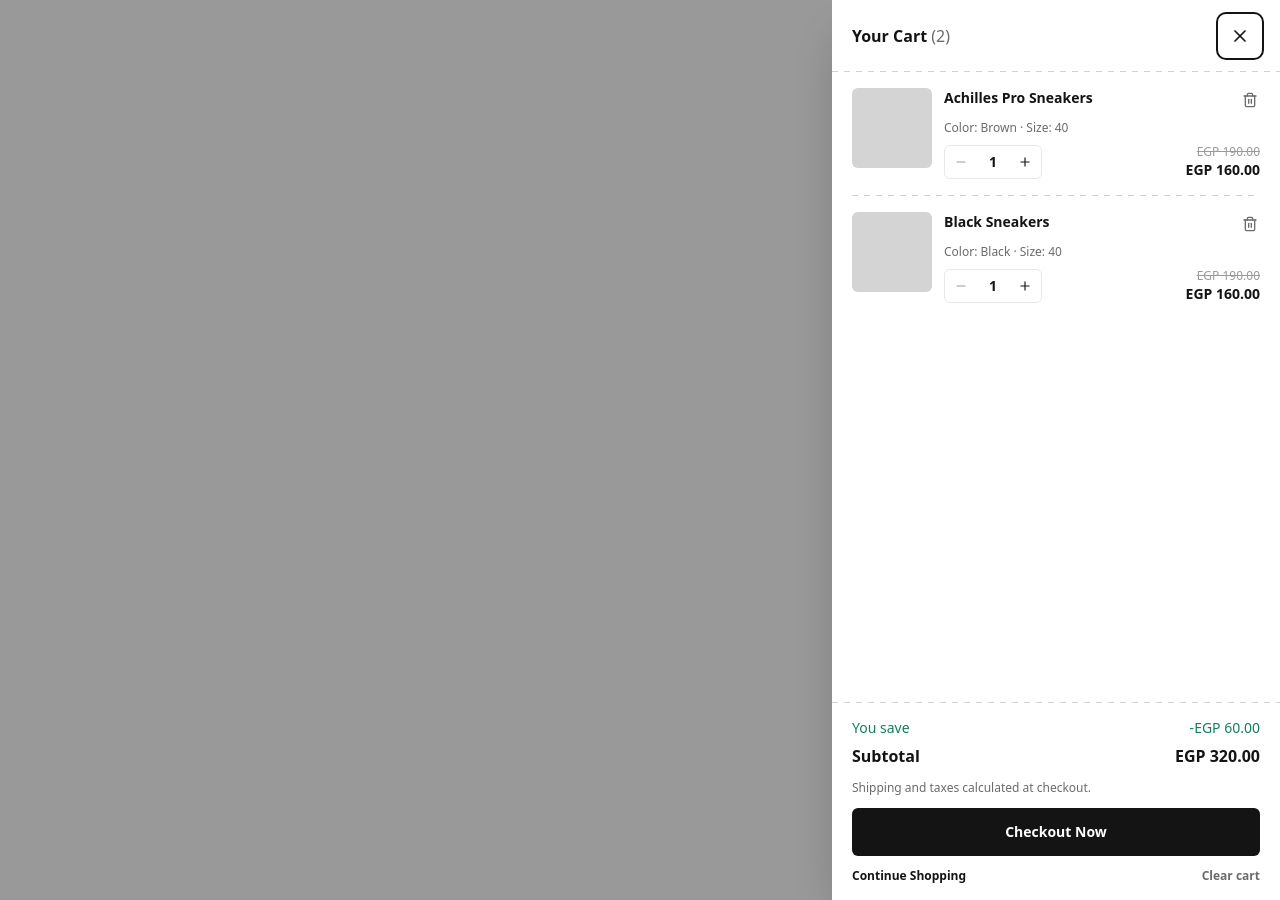
Test: CartDrawer › removes an item and falls back to the empty state
Expected: the number of list items is 2, [852, 72, 1260, 196]; [852, 196, 1260, 320]
Click the button named "Remove Achilles Pro Sneakers". click: [1250, 100]
box: [1234, 84, 1266, 116]
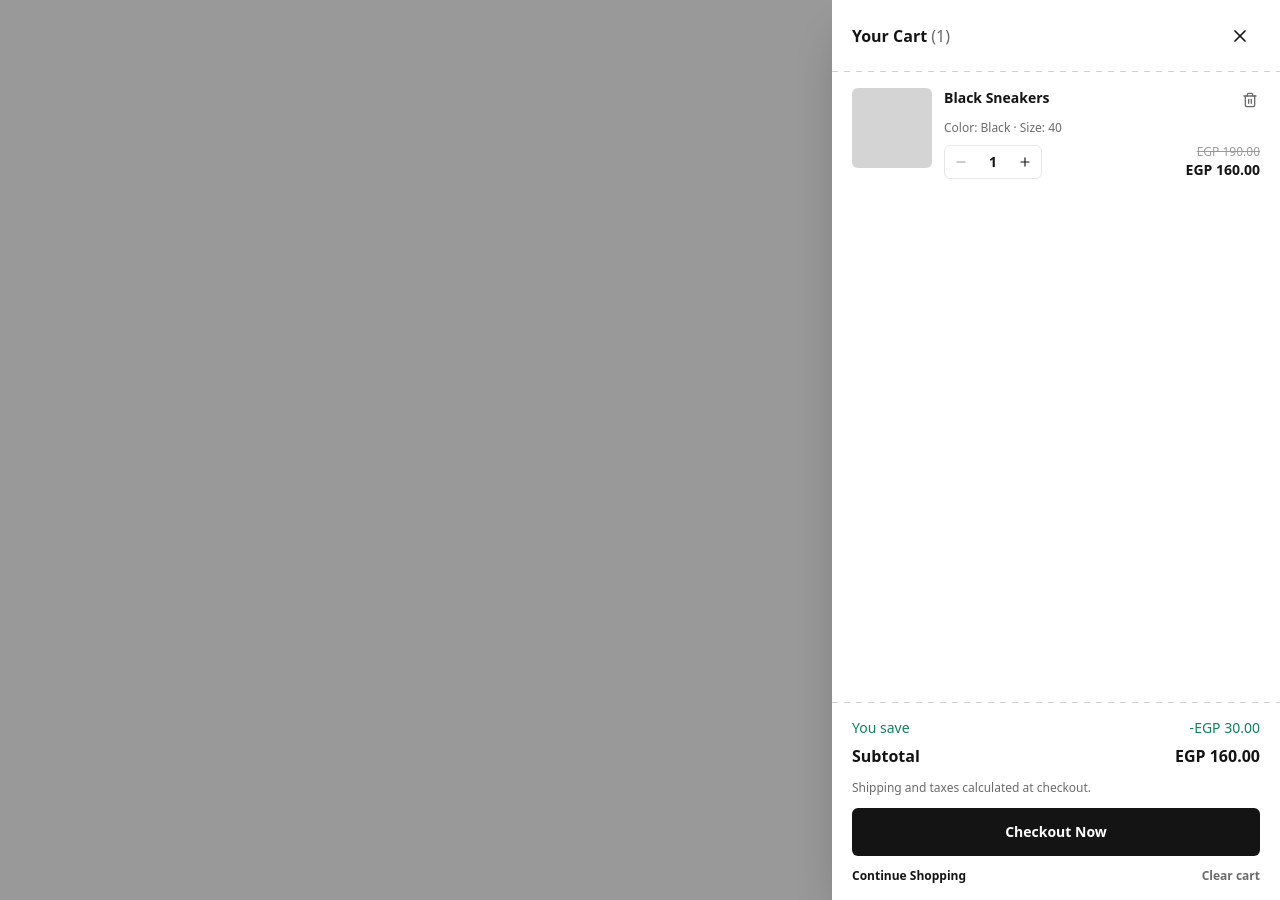
Now the number of list items is 1, box [852, 72, 1260, 196]
Click the button named "Remove Black Sneakers". click: [1250, 100]
box: [1234, 84, 1266, 116]
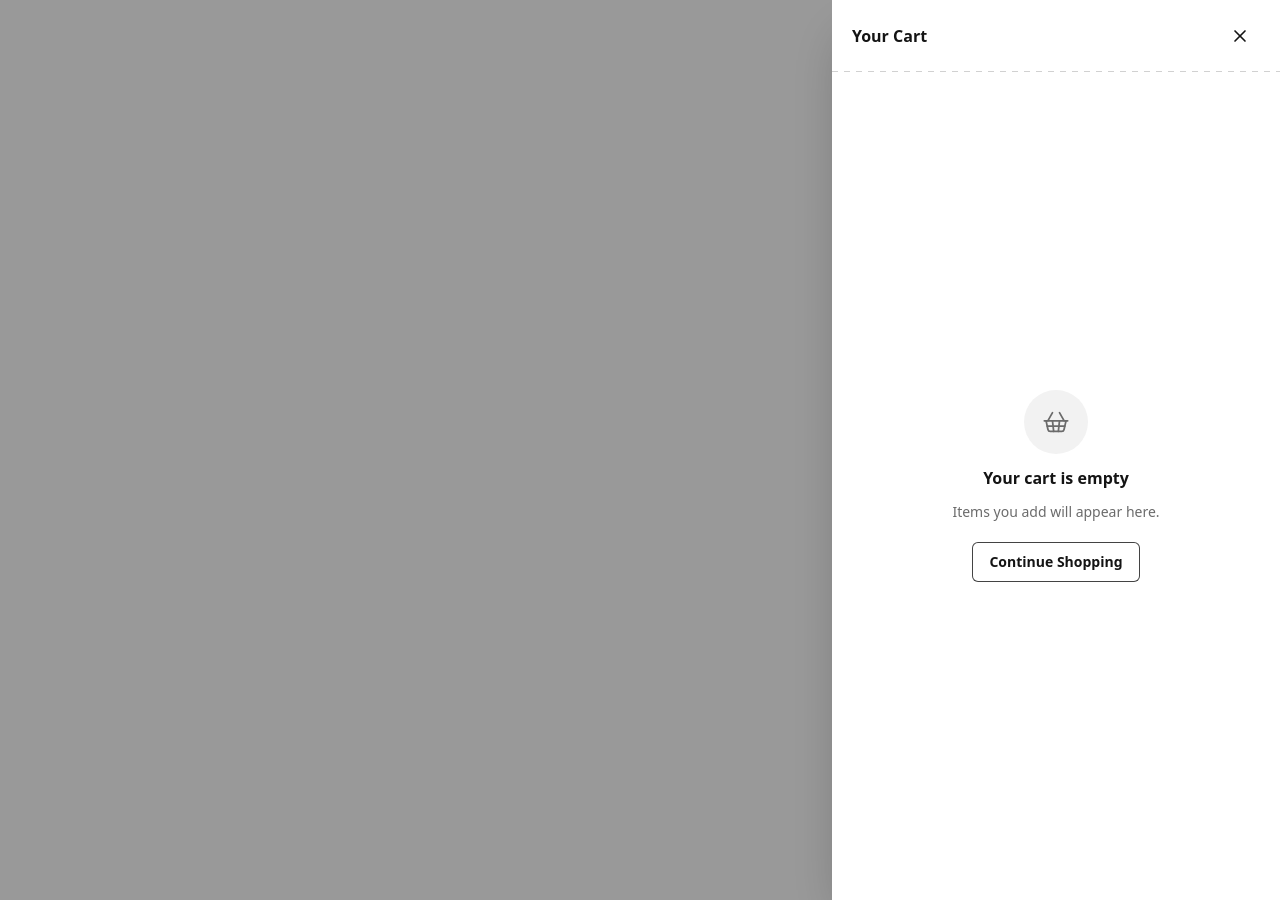
Now the text "Your cart is empty" is shown, box [983, 466, 1129, 490]
